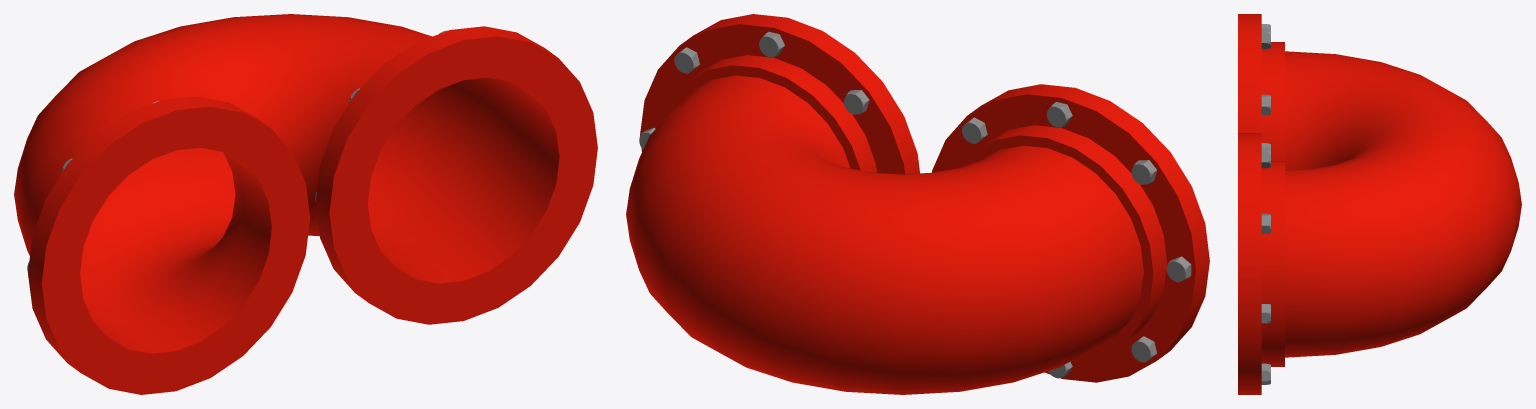
Rendered from Pipe_200_UBend.fbx.
3 renders of one model, left to right at view 1: azimuth 30°, elevation 25°; view 2: azimuth 150°, elevation 25°; view 3: azimuth 270°, elevation 25°, orthographic. The views are drawn at different scales.
Parts seen in each view (by area): view 1: Pipe_200_UBend; view 2: Pipe_200_UBend; view 3: Pipe_200_UBend.
Part boxes in pixels (<box>): Pipe_200_UBend: <box>14,14,597,394</box>; Pipe_200_UBend: <box>626,14,1209,394</box>; Pipe_200_UBend: <box>1238,14,1521,394</box>.
Size of the model in its own units: 0.58 by 0.28 by 0.3024.
